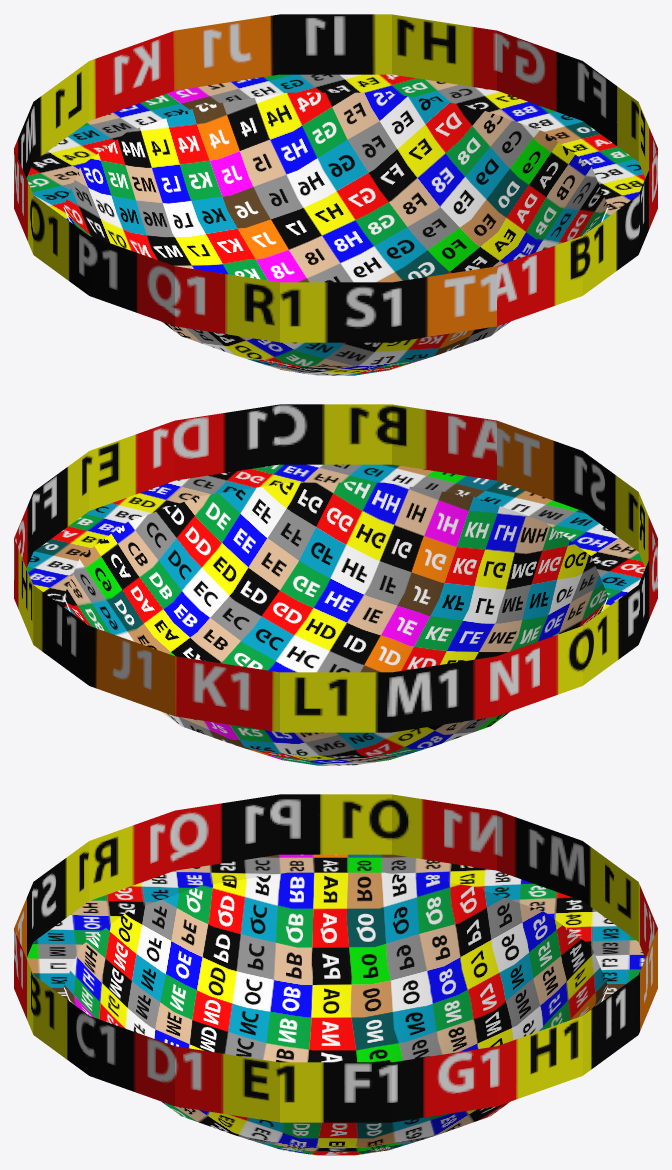
The model's file is light2.FBX.
3 renders of one model, top to bottom at view 1: azimuth 30°, elevation 25°; view 2: azimuth 150°, elevation 25°; view 3: azimuth 270°, elevation 25°, orthographic.
Parts seen in each view (by area): view 1: bedroom light steel, light2; view 2: bedroom light steel, light2; view 3: bedroom light steel, light2.
Part boxes in pixels (x1=…): bedroom light steel: x1=14, y1=14, x2=657, y2=342; light2: x1=64, y1=92, x2=607, y2=375; bedroom light steel: x1=14, y1=404, x2=657, y2=732; light2: x1=64, y1=482, x2=607, y2=765; bedroom light steel: x1=14, y1=794, x2=657, y2=1122; light2: x1=64, y1=872, x2=607, y2=1155.
Bounding box in the file's own units: 0.8029 × 0.2721 × 0.8153.
1 material, 1 textured.
